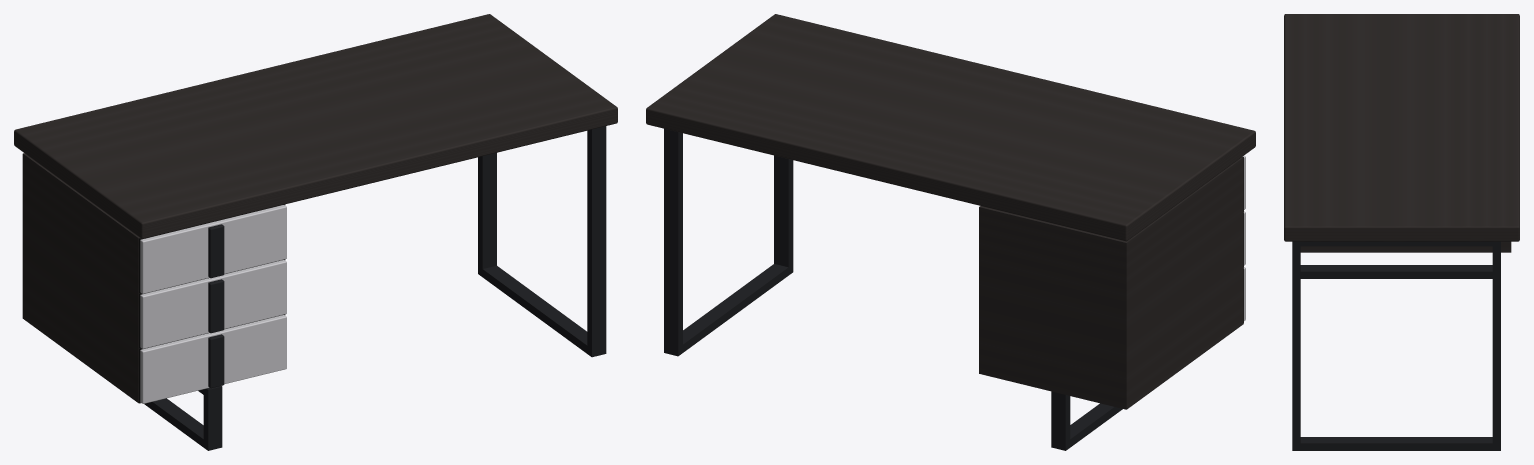
Rendered from ownDali.glb.
3 renders of one model, left to right at view 1: azimuth 30°, elevation 25°; view 2: azimuth 150°, elevation 25°; view 3: azimuth 270°, elevation 25°, orthographic. The views are drawn at different scales.
Size of the model in its own units: 1.5 by 0.75 by 0.7.
Materials: 5 (1 with a texture image).
